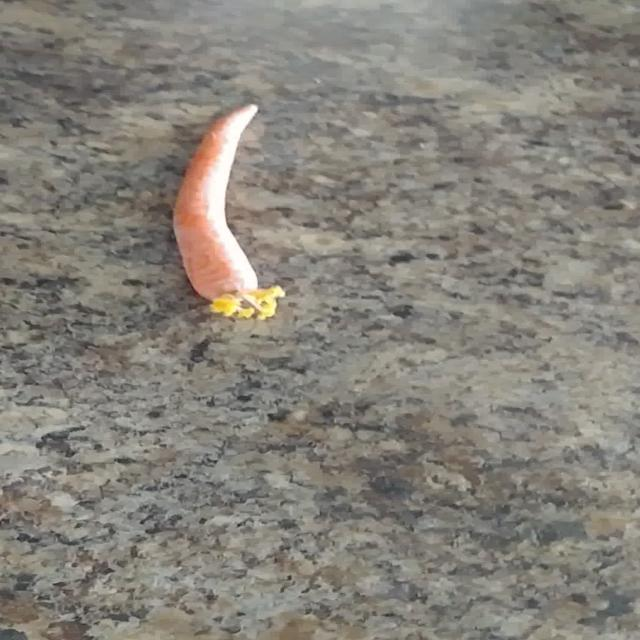carrot: (174, 104, 285, 319)
